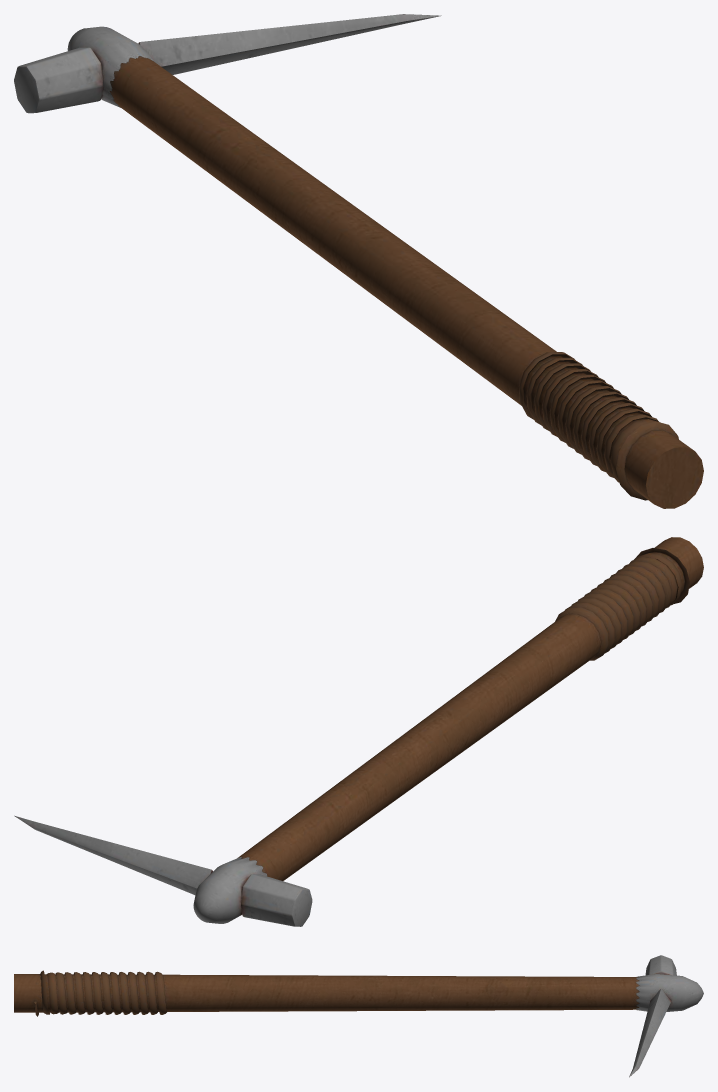
File: war_pick.glb
3 renders of one model, top to bottom at view 1: azimuth 30°, elevation 25°; view 2: azimuth 150°, elevation 25°; view 3: azimuth 270°, elevation 25°, orthographic. The views are drawn at different scales.
Visible parts, largest first — view 1: war_pick; view 2: war_pick; view 3: war_pick.
Part boxes in pixels (x1,y1,x2,y2): war_pick: (14,14,703,508); war_pick: (14,537,703,926); war_pick: (14,955,703,1077).
Size of the model in its own units: 0.24 by 0.0425 by 0.6397.
Materials: 1 (1 with a texture image).
